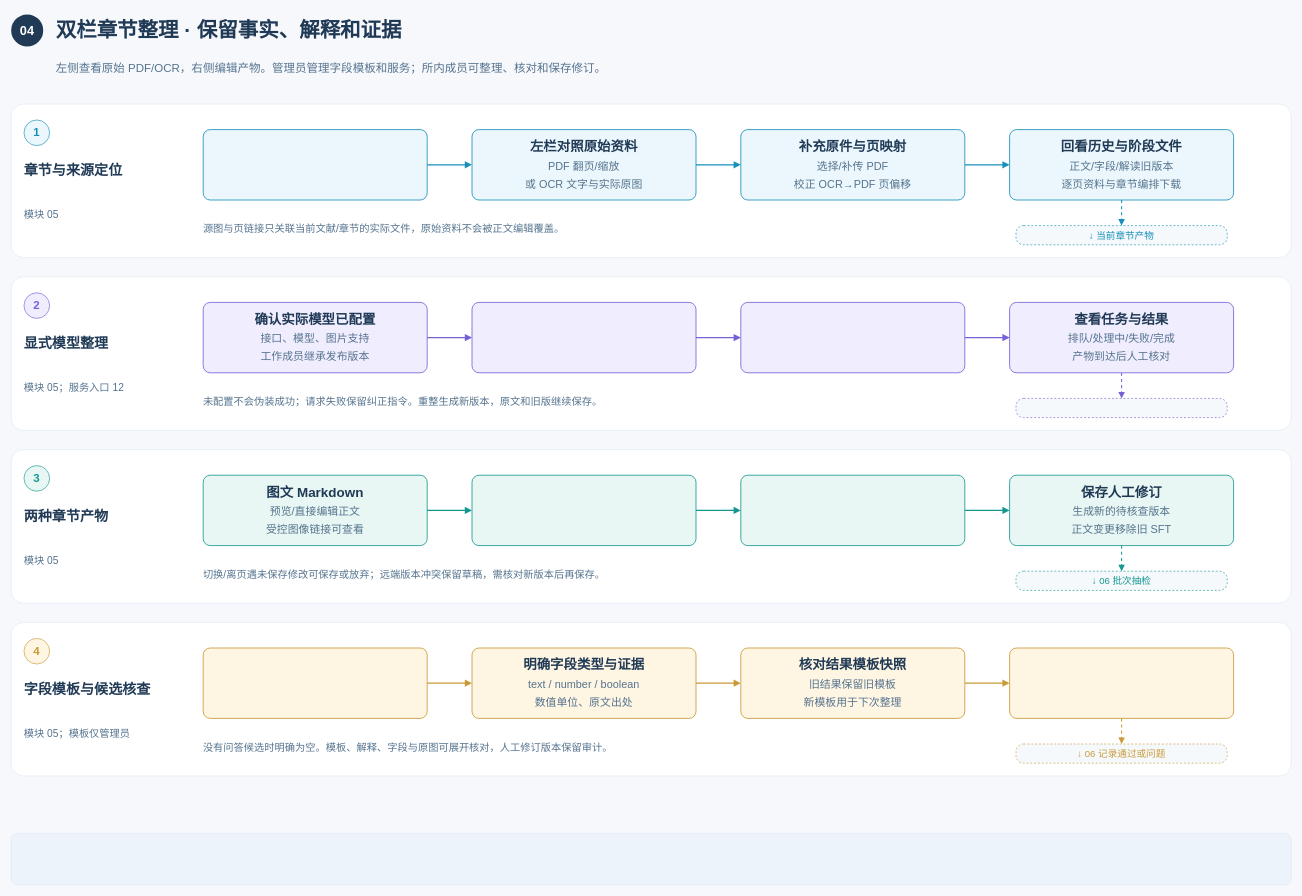
The diagram is 1302 pixels wide and 896 high, and some of its shapes have lost their labels. The shapes that lost their labels are listed below. From the top down, each one's box as (x1, y1, x2, y2) in pixels, then its label:
(202, 129, 427, 200): 选择章节与来源页 定位指定文献/章节 章节标题、页归属可调整
(471, 302, 696, 373): 整理选定章节 明确提交实际请求 保留任务与版本快照
(740, 302, 965, 373): 按语义指令重新组织 填写“告诉 AI 怎么改” 保留原文事实和单位
(1015, 398, 1227, 418): ↓ 图文与字段产物
(471, 474, 696, 546): 独立章节解读 与事实正文分开编辑 明确来源页和解释局限
(740, 474, 965, 546): 结构字段抽取 值＋原文证据＋页/图 未提及 null，不补造
(202, 647, 427, 719): 管理自定义字段模板 增/删；常用植物模板 key、标签、类型、说明
(1009, 647, 1234, 719): 核对图表与 SFT 候选 问题/答案/来源页 确认已对照，再抽检通过
(11, 833, 1291, 885): 本系统不执行大模型训练。事实正文、独立解读、结构字段分别保存；抽检通过与未抽样章节的状态严格分开。
